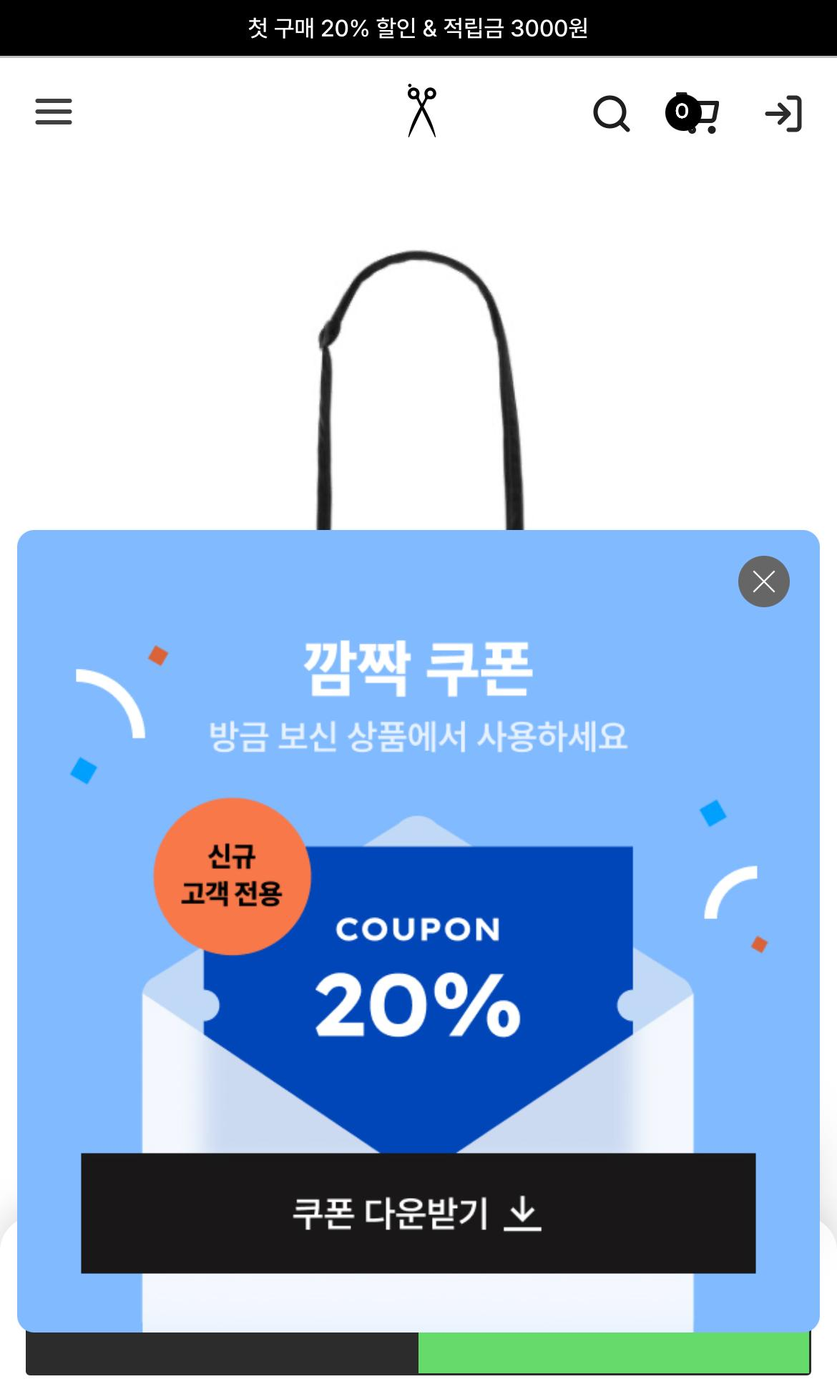button: (73, 1155, 757, 1261), (733, 544, 796, 649), (667, 84, 730, 143), (25, 84, 80, 147), (587, 88, 644, 143), (771, 89, 816, 147)
popup: (18, 540, 816, 1334), (11, 0, 837, 63)
